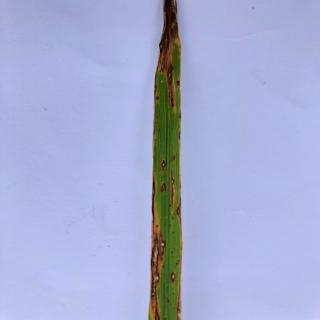Blast: (147, 270, 163, 291), (154, 237, 171, 254), (173, 205, 187, 222), (152, 182, 172, 192), (165, 269, 178, 282), (157, 156, 168, 171)
